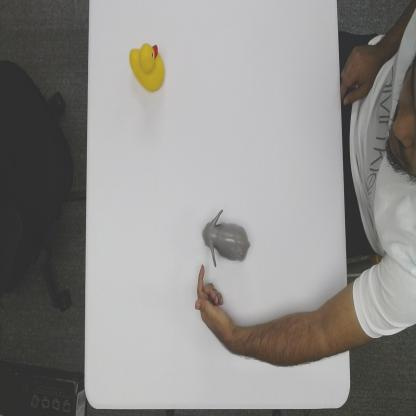Arm: (232, 298, 349, 372)
Duck: (128, 38, 167, 96)
Elephant: (200, 209, 251, 266)
Hand: (194, 266, 230, 349)
